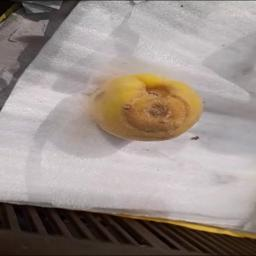Peach Rotten: (81, 62, 212, 157)
